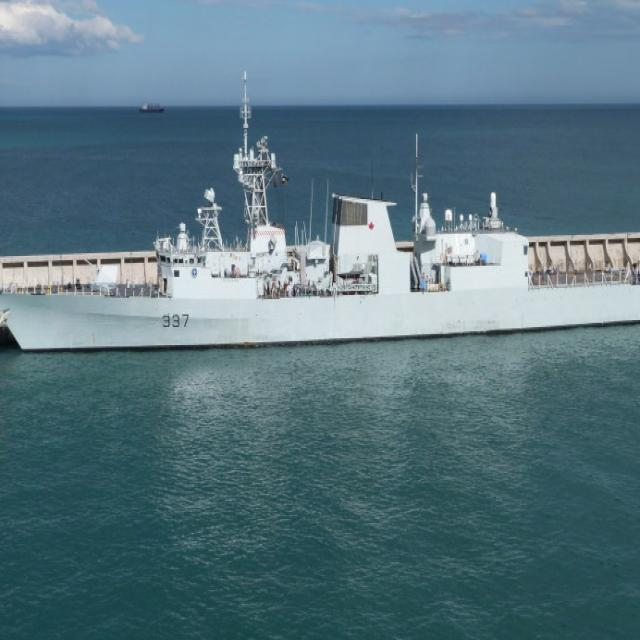Fragata: (1, 62, 640, 360)
